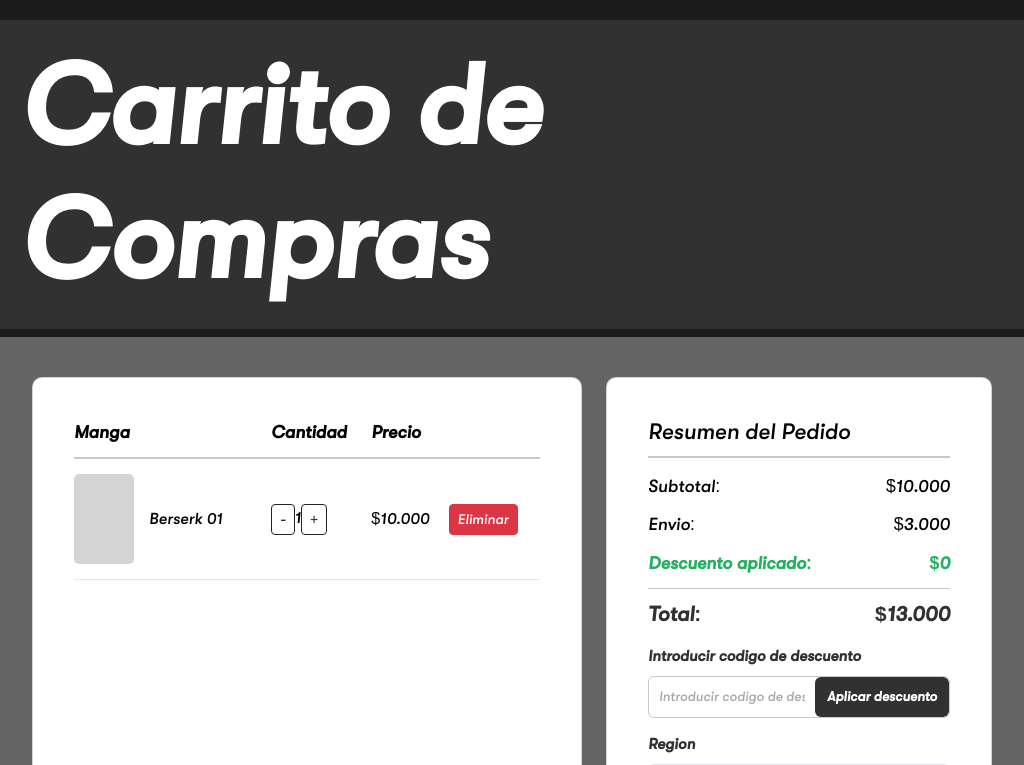
Carrito › actualiza cantidades y elimina productos
Click the button named "Agregar uno de Berserk 01" at (314, 519), box [301,504,327,535]
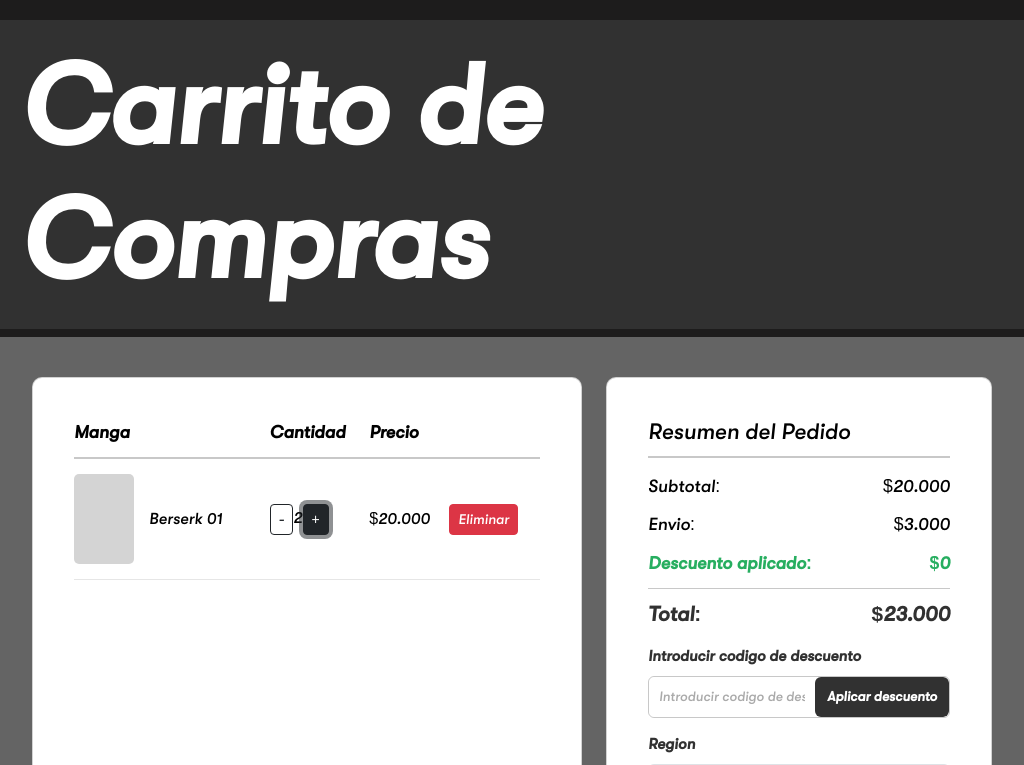
Result: the text "2" is shown at [293,509,303,527]
Result: the text "$23.000" is shown at [871,599,950,630]
Click the button "Eliminar" at (484, 519), box [449,504,518,535]
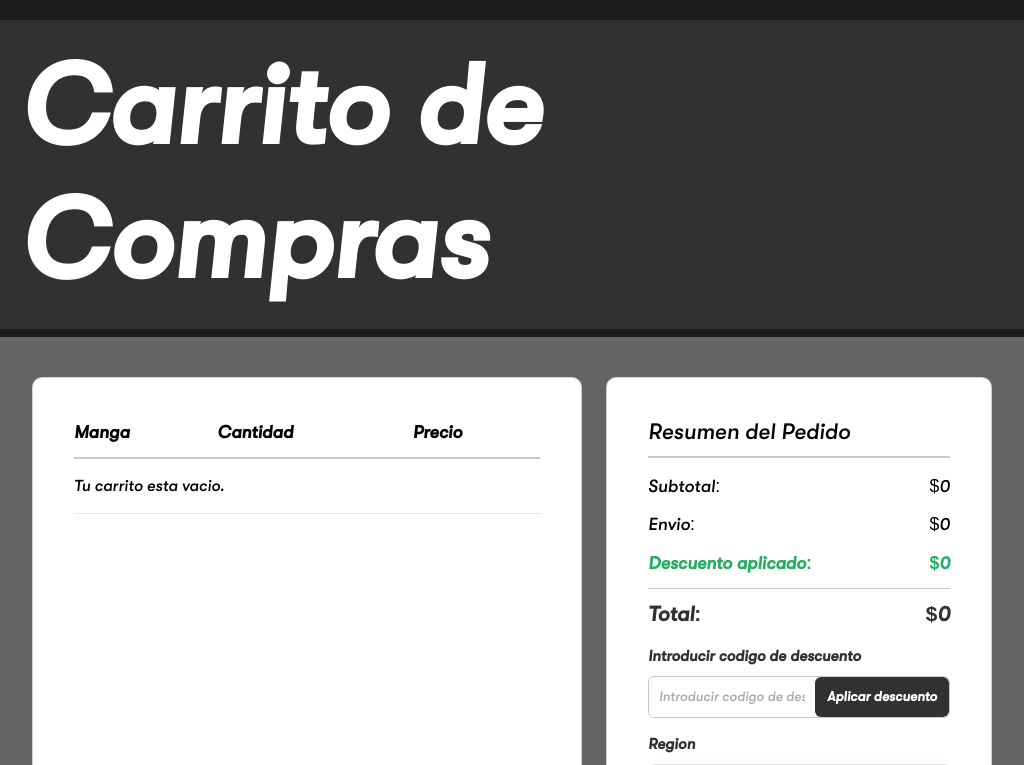
Result: the text "Tu carrito está vacío." is shown at [74,458,540,514]
